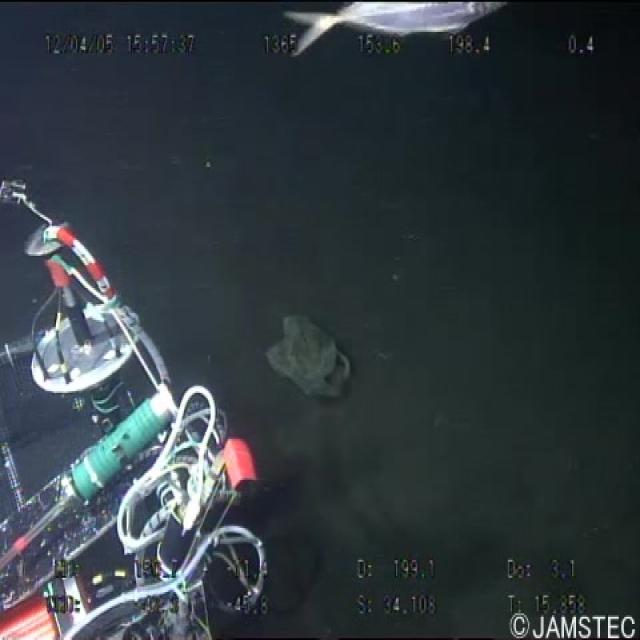plastic: (258, 302, 354, 411)
